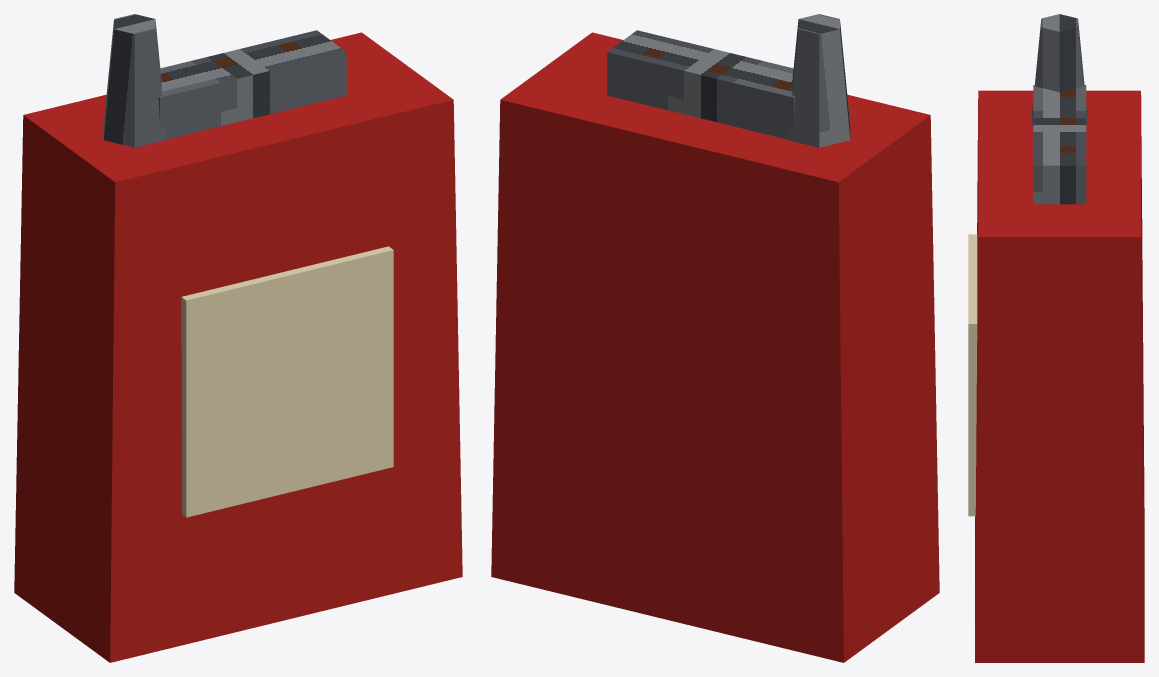
File: repair_parts__fuel.glb
3 views of the same model, side by side, from view 1: azimuth 30°, elevation 25°; view 2: azimuth 150°, elevation 25°; view 3: azimuth 270°, elevation 25° (orthographic). The views are drawn at different scales.
Parts seen in each view (by area): view 1: _MeshInstance3D_395, _MeshInstance3D_397, _MeshInstance3D_396; view 2: _MeshInstance3D_395, _MeshInstance3D_396; view 3: _MeshInstance3D_395, _MeshInstance3D_396, _MeshInstance3D_397.
Boxes of the visible parts, x1,y1,x2,y2 form: _MeshInstance3D_395: [14, 32, 462, 662]; _MeshInstance3D_397: [181, 246, 393, 517]; _MeshInstance3D_396: [103, 14, 346, 147]; _MeshInstance3D_395: [491, 32, 939, 662]; _MeshInstance3D_396: [607, 14, 850, 147]; _MeshInstance3D_395: [975, 90, 1144, 662]; _MeshInstance3D_396: [1032, 14, 1087, 204]; _MeshInstance3D_397: [968, 234, 977, 516].
Size of the model in its own units: 0.34 by 0.54 by 0.166.
Materials: 3 (1 with a texture image).
